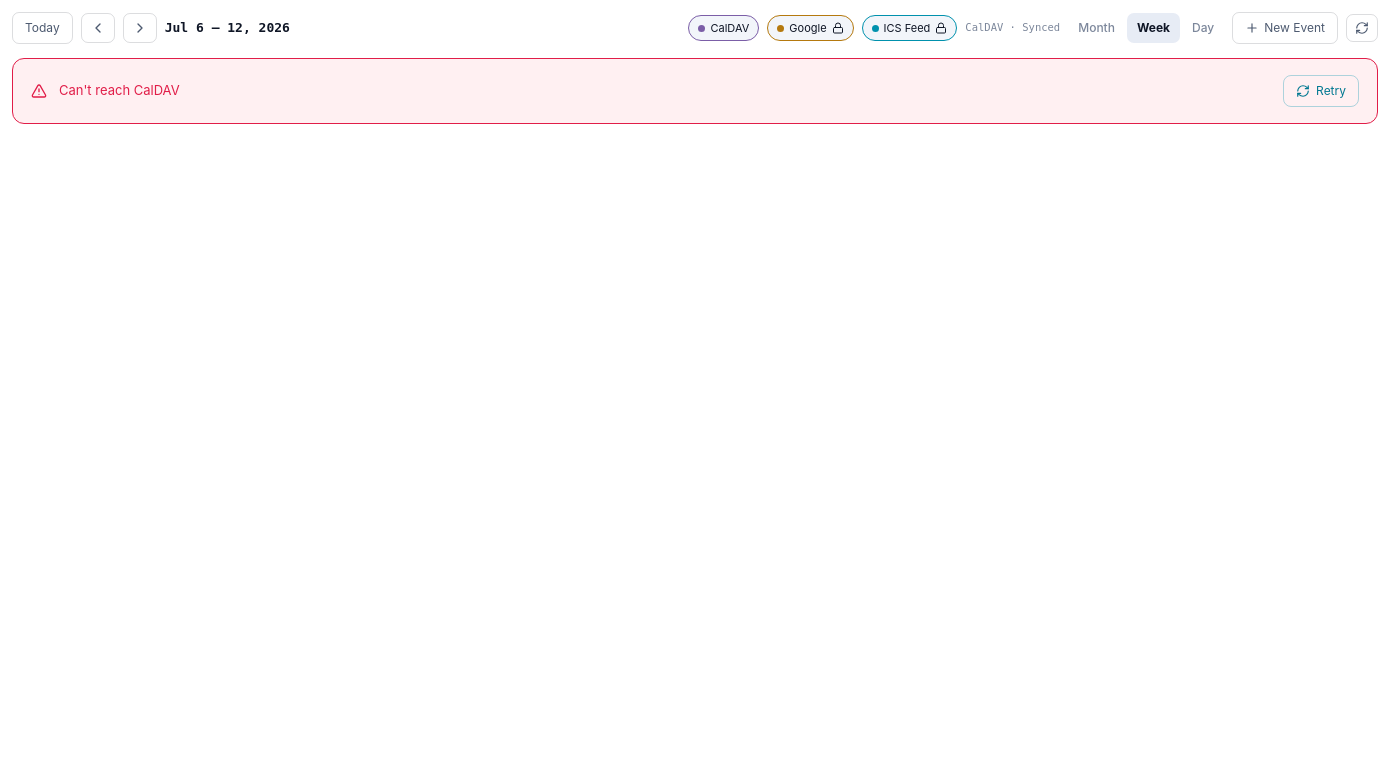
CalendarPanel — 4 states + view switch + source chips + drawer › error: rejected fetch → error banner + a retry that re-fetches
Expected: the message "Can't reach CalDAV Retry" is shown, [12, 58, 1378, 124]
Expected: the text "Can't reach CalDAV" is shown, [59, 82, 180, 98]
Step 1. Click the button "Retry" → (1321, 91), box [1283, 75, 1359, 107]
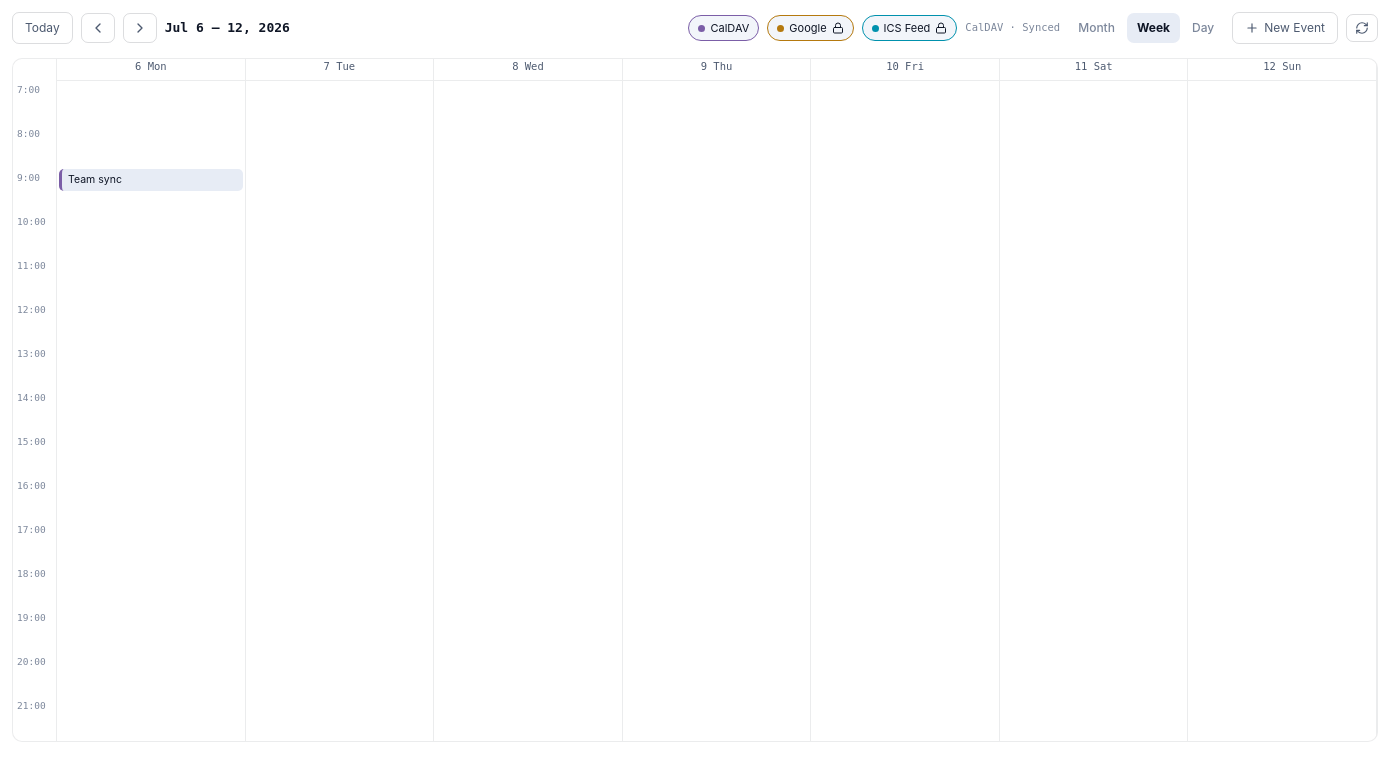
Expected: the button "Team sync" is shown, [59, 169, 243, 191]
